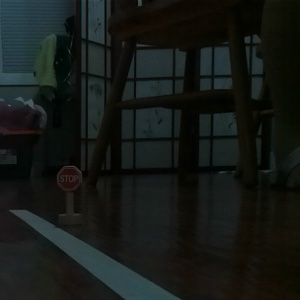stop sign: (54, 163, 85, 226)
